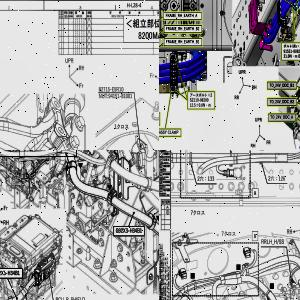PartNumber: (98, 85, 124, 92), (116, 227, 142, 234), (108, 94, 133, 100), (0, 269, 19, 276), (189, 97, 209, 102), (283, 48, 300, 53)
